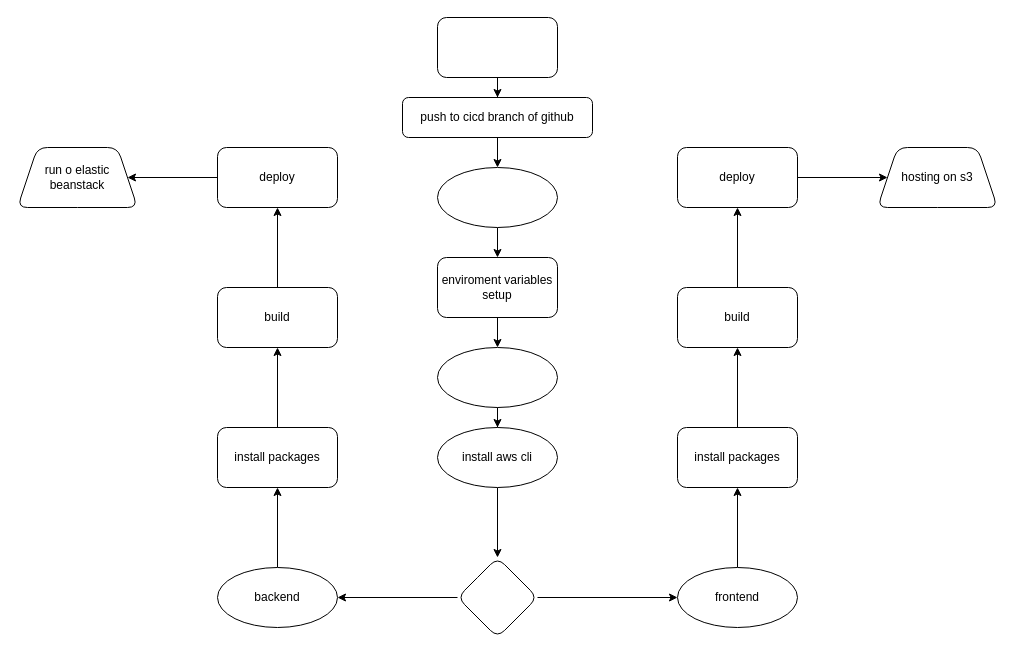
Some shapes in this 1015 by 655 pixel diagram are drawn without their labels. Each missing label, with the centre of its shape:
Circle CI starts pipeline: (x=497, y=197)
Developer: (x=497, y=47)
install nodjs: (x=497, y=377)
